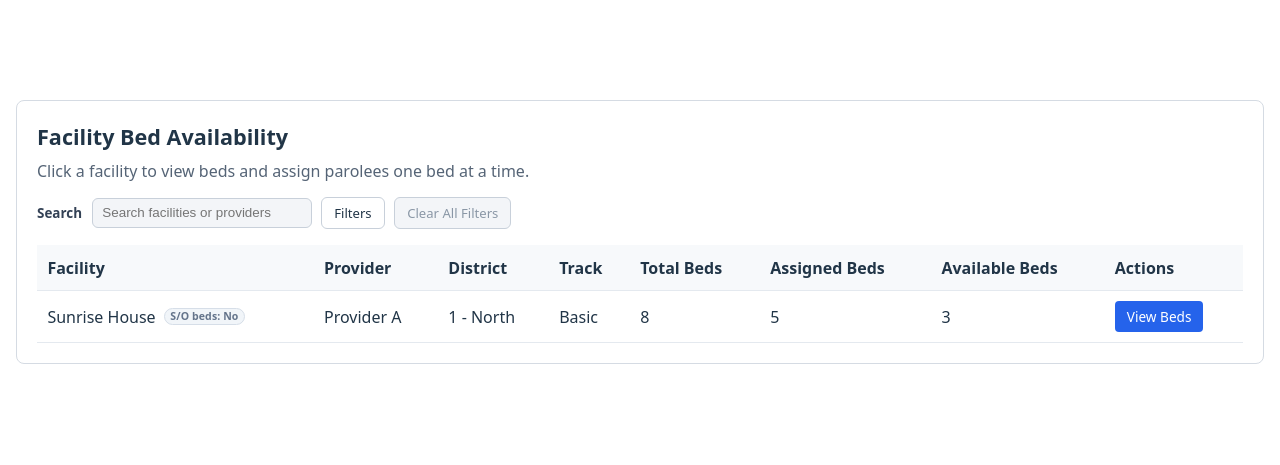
Test case: MainDash › shows note edit controls when user can edit notes
Check: the text "Sunrise House" is shown, box [47,305,156,329]
Step 1. Click the button "View Beds" → coordinates (1159, 317), box [1115,302,1204,332]
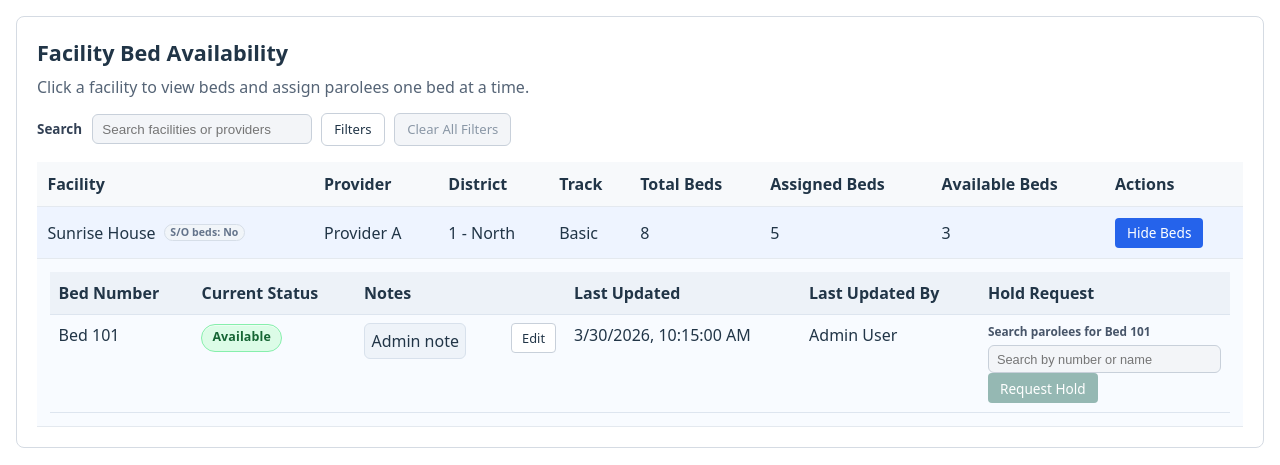
Check: the button "Edit" is shown, box [511,323,556,353]
